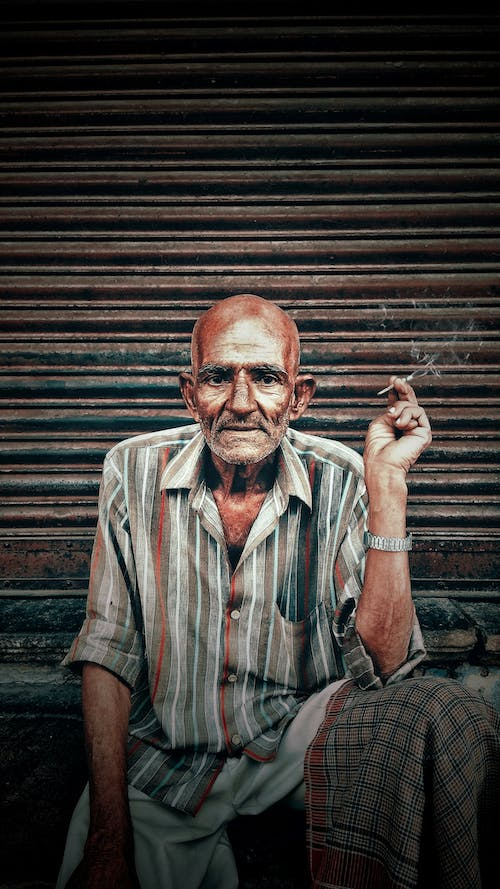cigarette: (374, 370, 417, 398)
